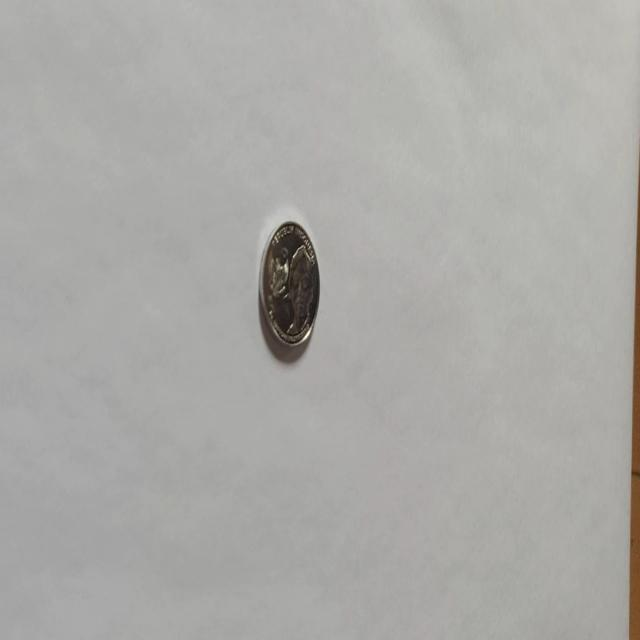dua ratus rupiah: (258, 218, 320, 348)
